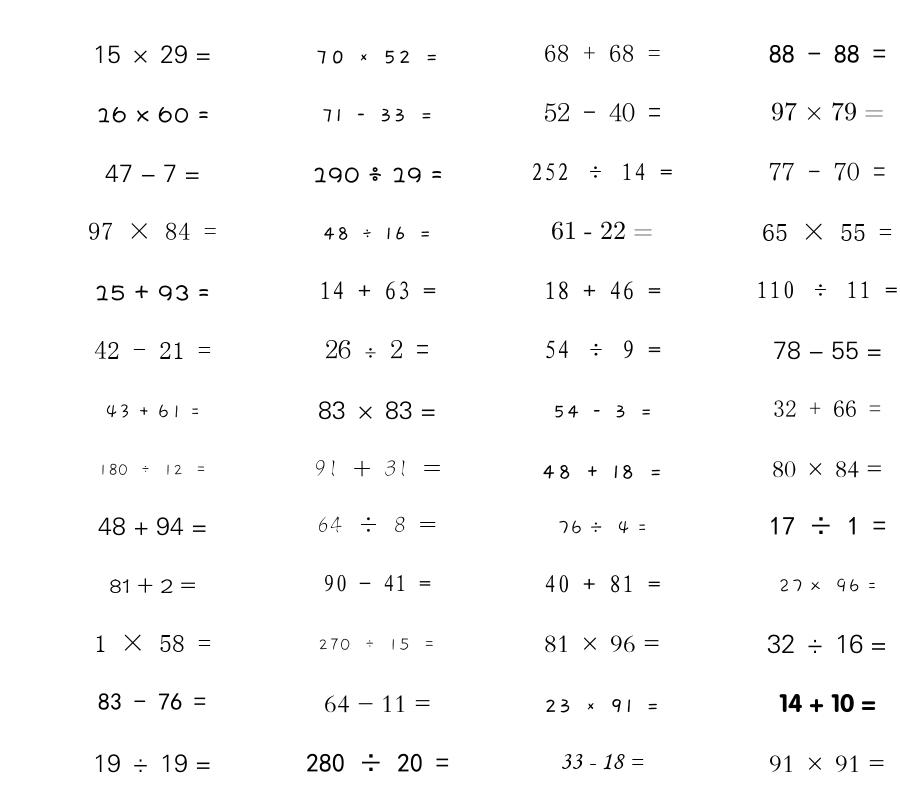MQ: (306, 753, 449, 773), (531, 163, 673, 181), (756, 281, 898, 299), (767, 634, 887, 654), (544, 102, 661, 122), (762, 223, 892, 241), (88, 222, 217, 240), (93, 45, 211, 64), (318, 401, 436, 420), (93, 754, 211, 773), (769, 44, 886, 63), (769, 162, 886, 181), (319, 281, 436, 300), (544, 281, 661, 300), (544, 340, 661, 359), (769, 516, 886, 535), (314, 460, 441, 477), (771, 102, 884, 121), (544, 44, 661, 62), (94, 341, 211, 359), (544, 575, 661, 593), (94, 634, 211, 652), (312, 167, 443, 183), (544, 635, 660, 653), (769, 755, 885, 773), (325, 339, 429, 359), (773, 341, 882, 360), (98, 517, 207, 536), (317, 516, 437, 533), (323, 574, 431, 592), (779, 693, 876, 713), (551, 221, 653, 240), (324, 695, 431, 713), (96, 106, 209, 123), (772, 461, 883, 478), (94, 285, 210, 301), (773, 400, 881, 417), (98, 693, 206, 710), (541, 464, 663, 479), (315, 50, 439, 64), (105, 164, 200, 182), (544, 699, 660, 713), (321, 108, 433, 122), (322, 226, 432, 240), (318, 638, 436, 651), (778, 578, 877, 593), (109, 577, 196, 594), (560, 753, 644, 770), (105, 404, 200, 419), (98, 463, 207, 476), (557, 520, 647, 535), (552, 405, 653, 418)
